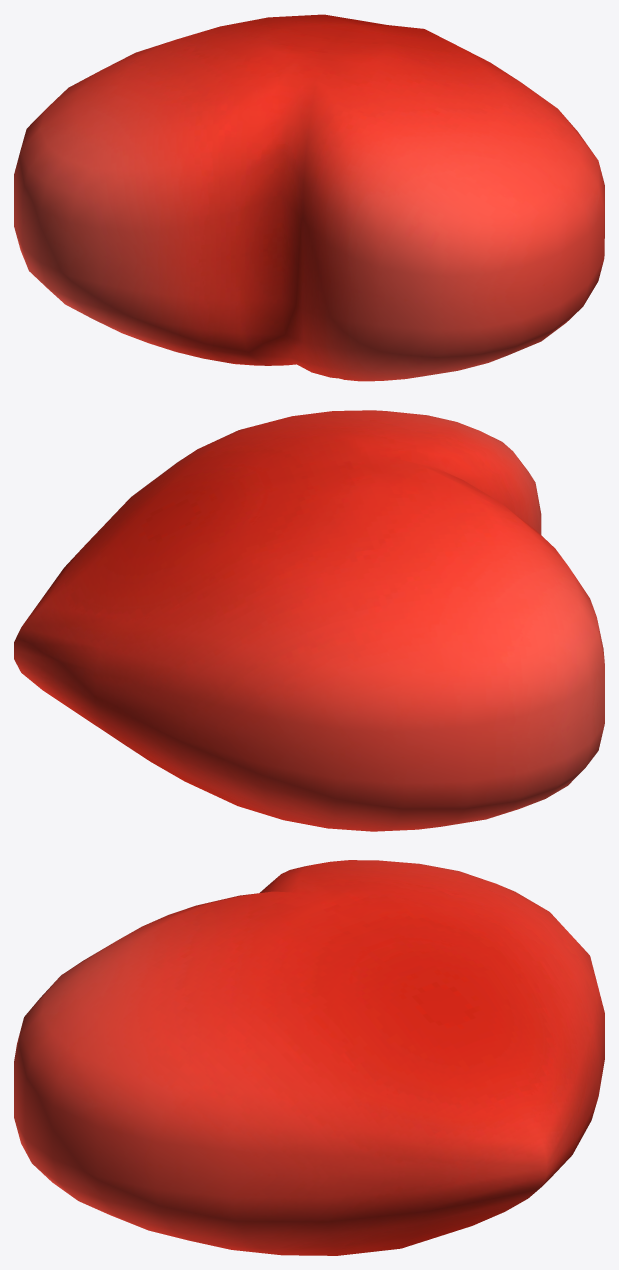
Rendered from heart.fbx.
3 views of the same model, one above another, from view 1: azimuth 30°, elevation 25°; view 2: azimuth 150°, elevation 25°; view 3: azimuth 270°, elevation 25° (orthographic). The views are drawn at different scales.
Parts seen in each view (by area): view 1: heart; view 2: heart; view 3: heart.
Boxes of the visible parts, left/top/right/bottom form: heart: left=14, top=14, right=604, bottom=381; heart: left=14, top=410, right=604, bottom=831; heart: left=14, top=860, right=604, bottom=1255.
Bounding box in the file's own units: 0.1496 × 0.0887 × 0.1529.
1 material, 1 textured.
